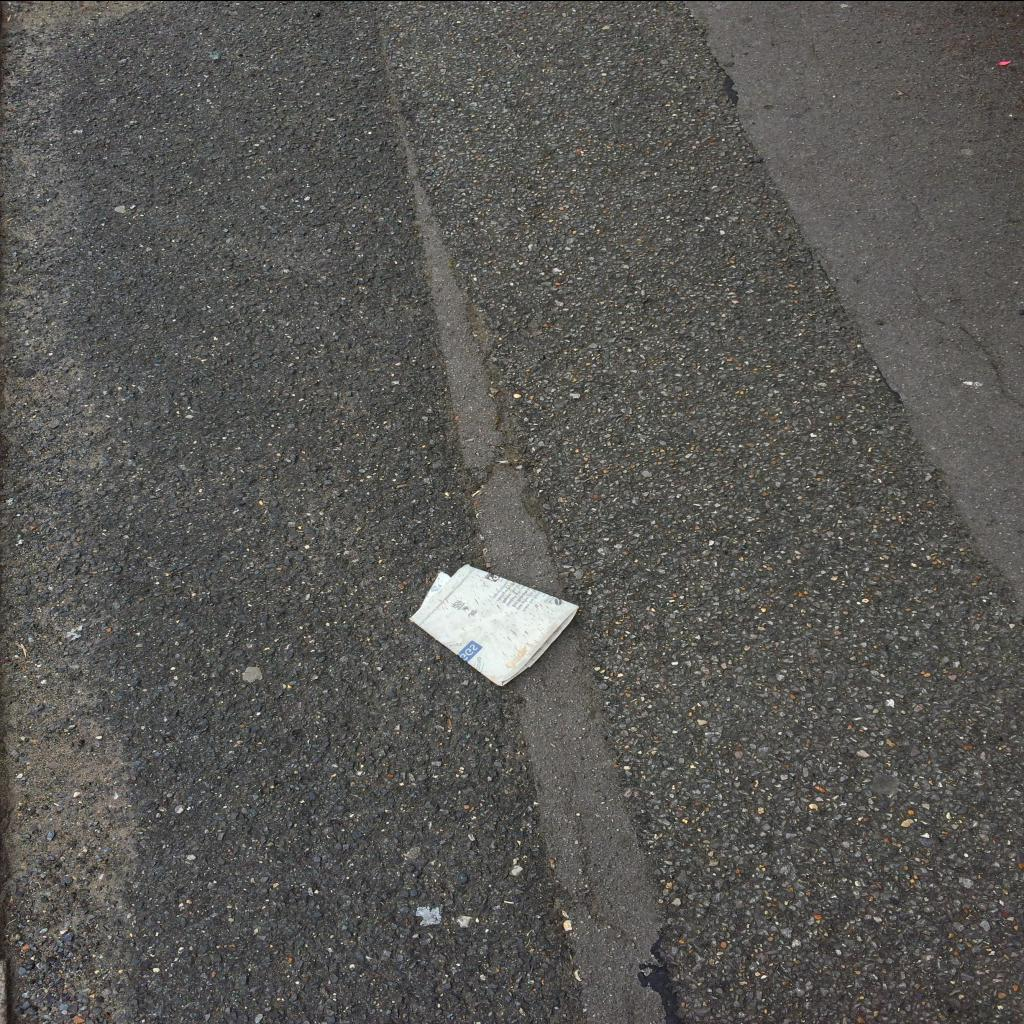Paper cup: (409, 562, 579, 686)
